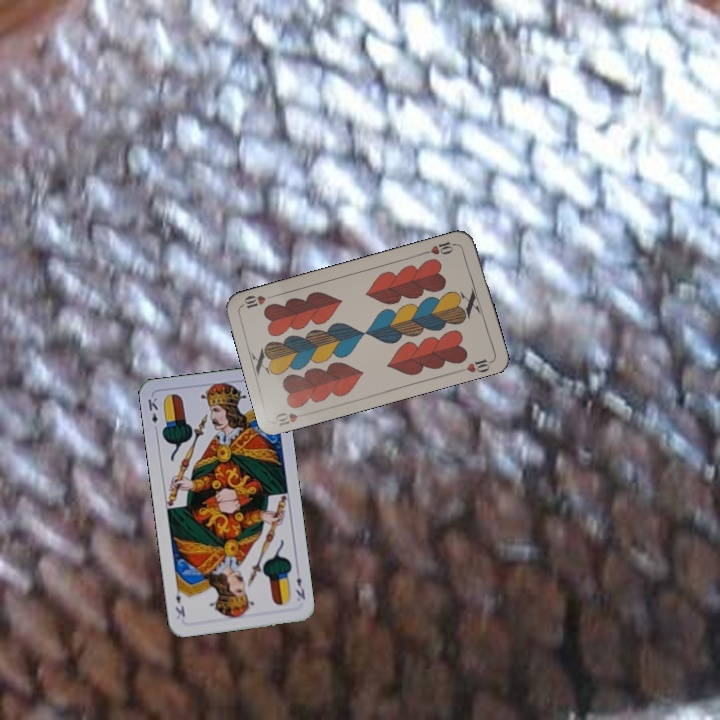EK: (144, 393, 160, 434), (291, 574, 308, 602)
H10: (271, 408, 312, 429), (420, 237, 460, 257)
